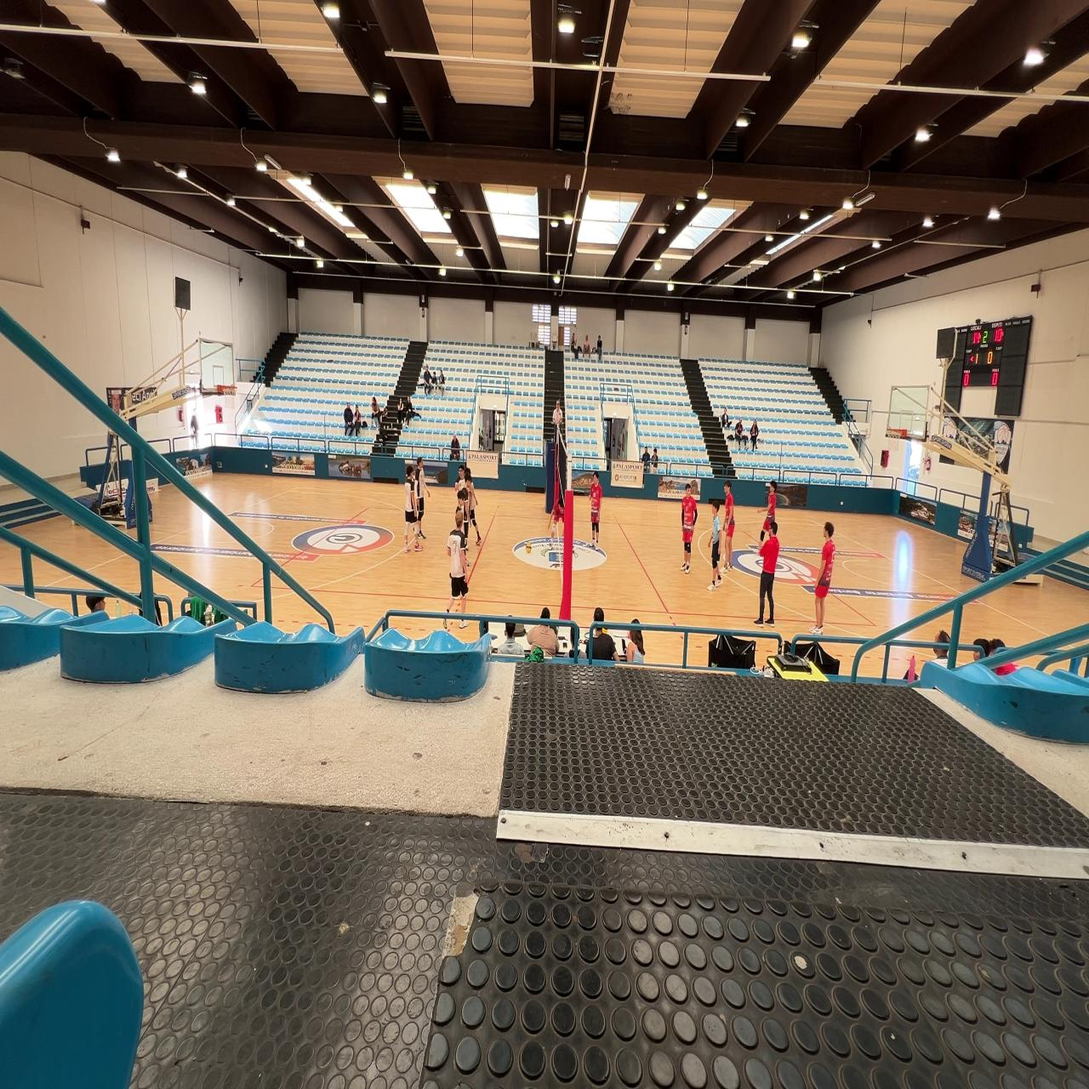ball: (526, 543, 532, 553)
